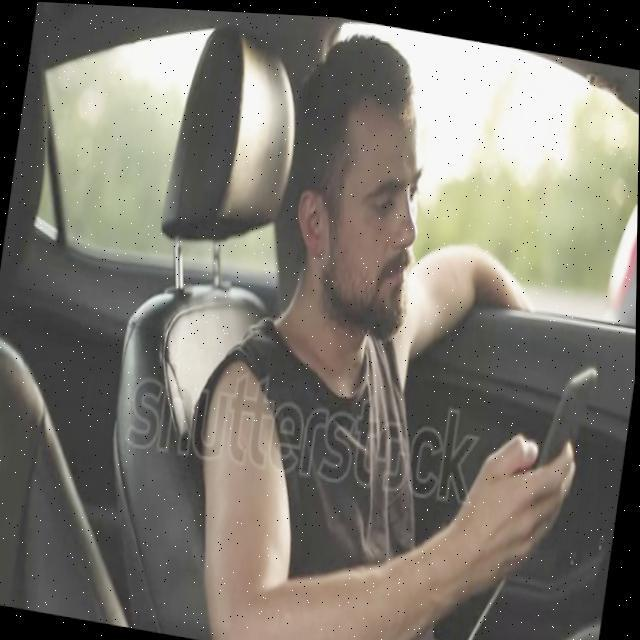PhoneCall: (538, 355, 600, 498)
